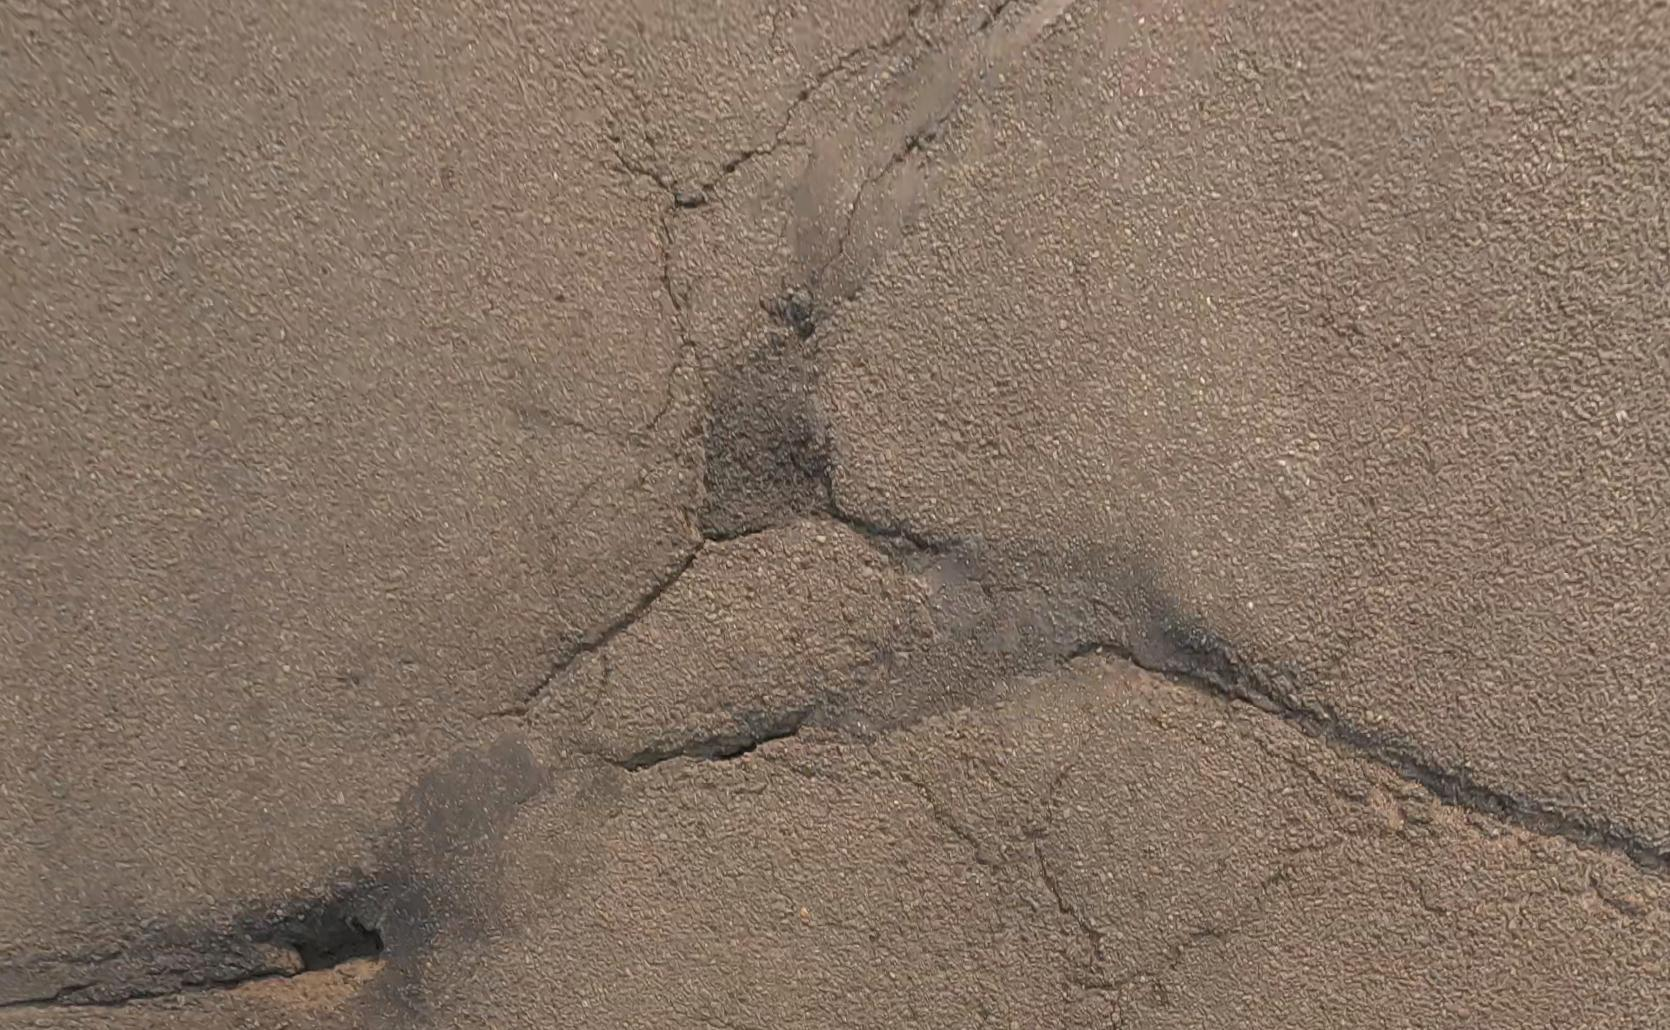pothole: (1359, 785, 1412, 834)
pothole_patch_good: (684, 313, 847, 544)
pothole_patch_poor: (798, 520, 1252, 741)
